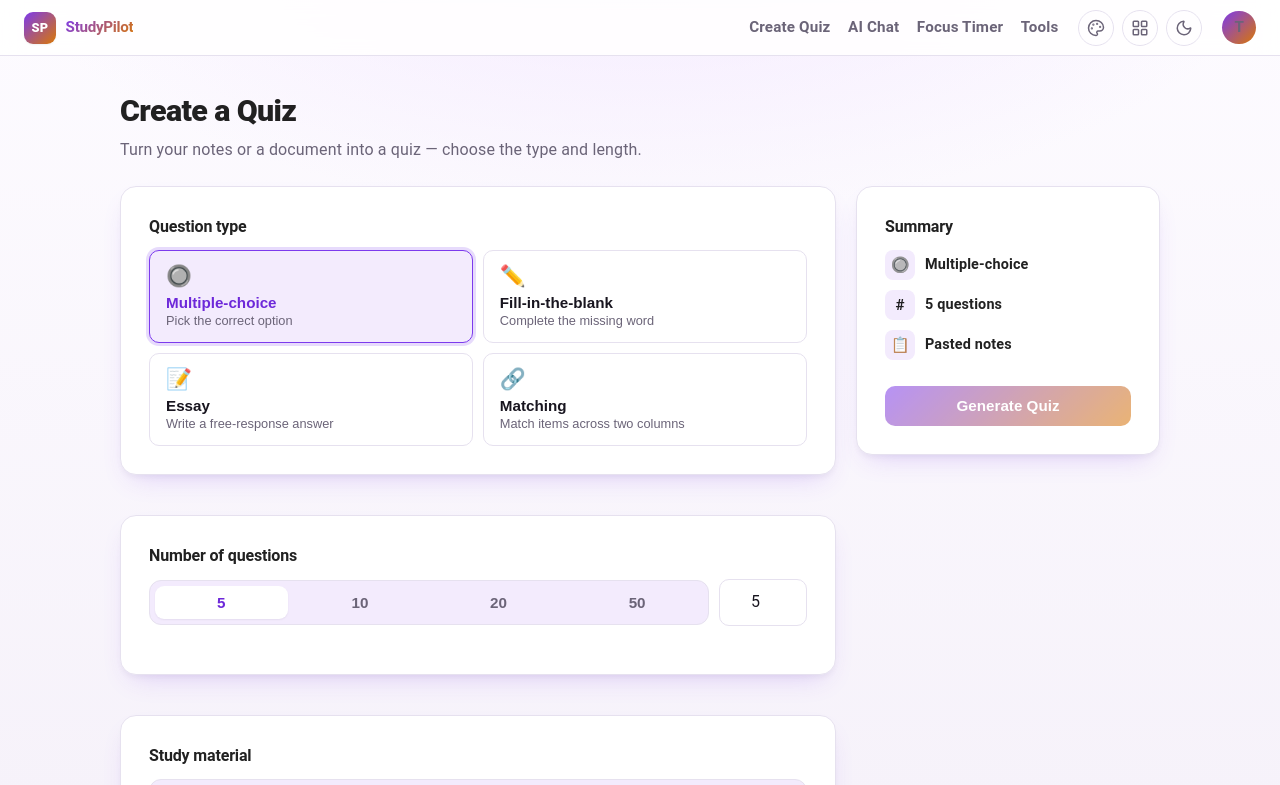
Scenario: core flow: create -> take -> results › generates a quiz, takes it, and shows score + per-question breakdown
Create page: choose the Multiple-choice question type, paste notes, generate.
Click the tab "Multiple-choice" at (221, 302), box [149,250,473,343]
(page scrolled)
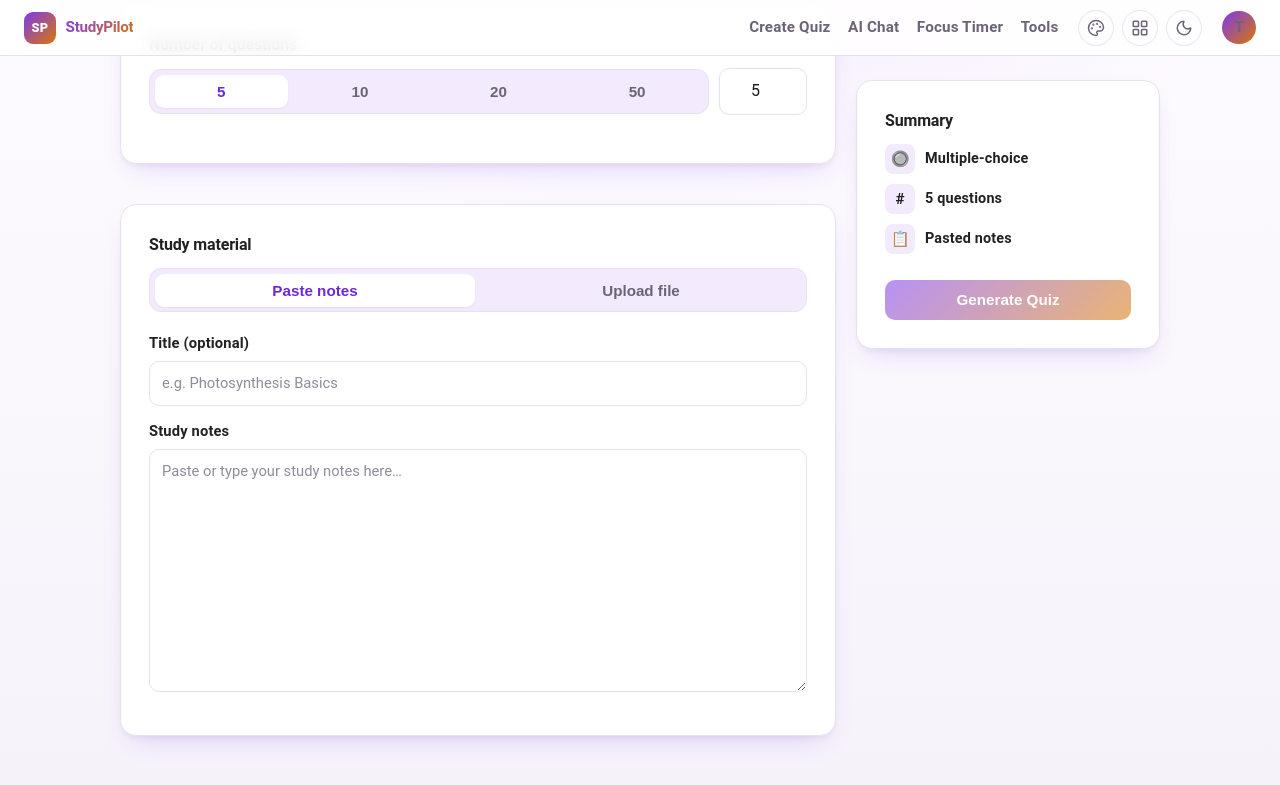
Type "Photosynthesis converts light energy..." into the text box labelled "Study notes" at (478, 570), box [149,449,807,692]
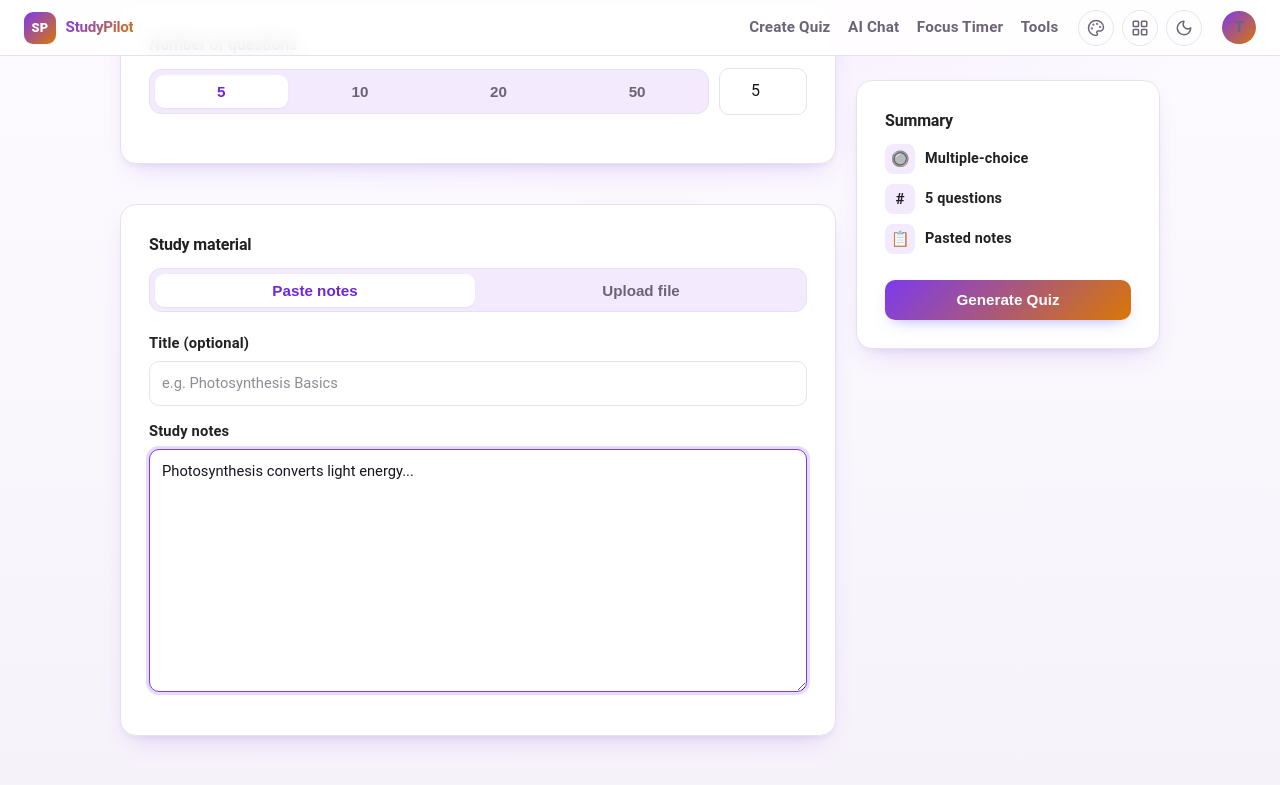
Click the button "Generate Quiz" at (1008, 300), box [885,280,1131,320]
(page scrolled)
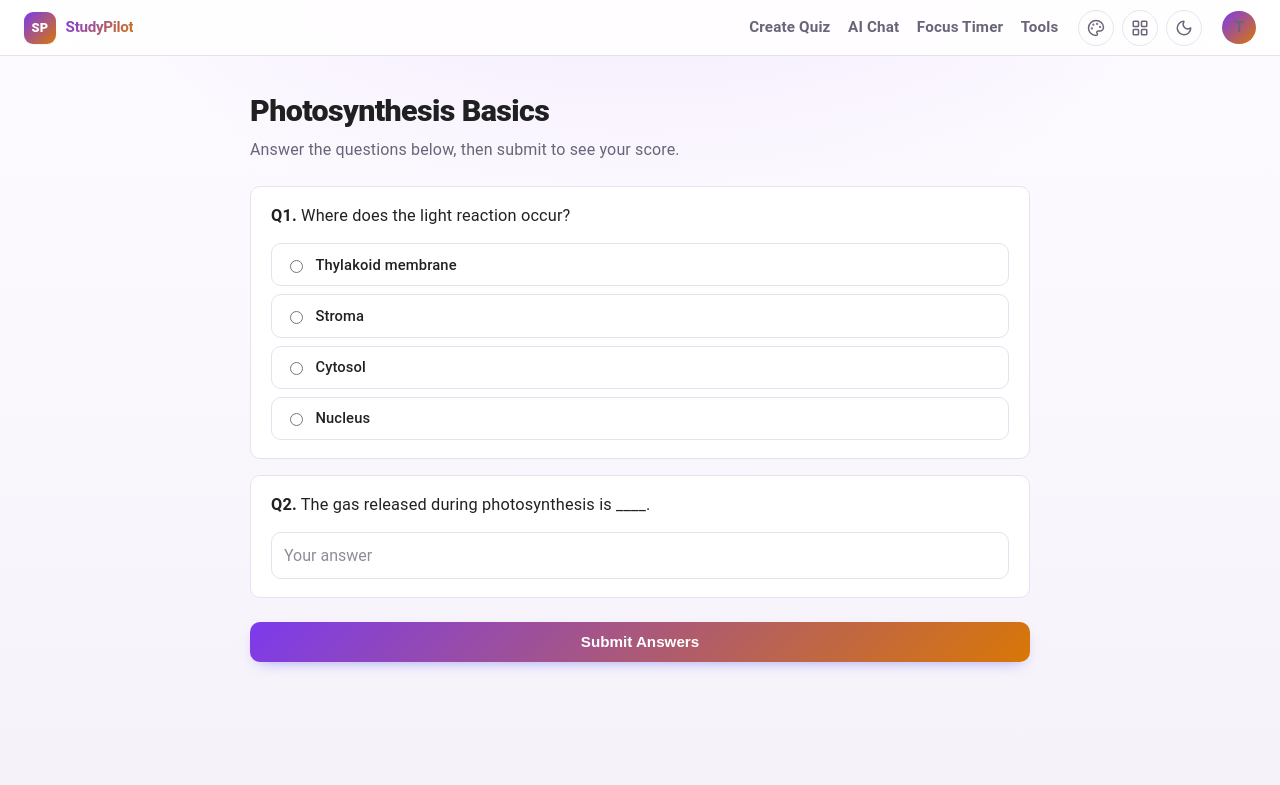
Check: the text "Q1. Where does the light reaction occur?" is shown, box [271,206,570,225]
Check: the text "Q2. The gas released during photosynthesis is ____." is shown, box [271,495,650,514]
Answer the MCQ and the short answer.
Click the radio button labelled "Thylakoid membrane" at (296, 266), box [290,260,303,273]
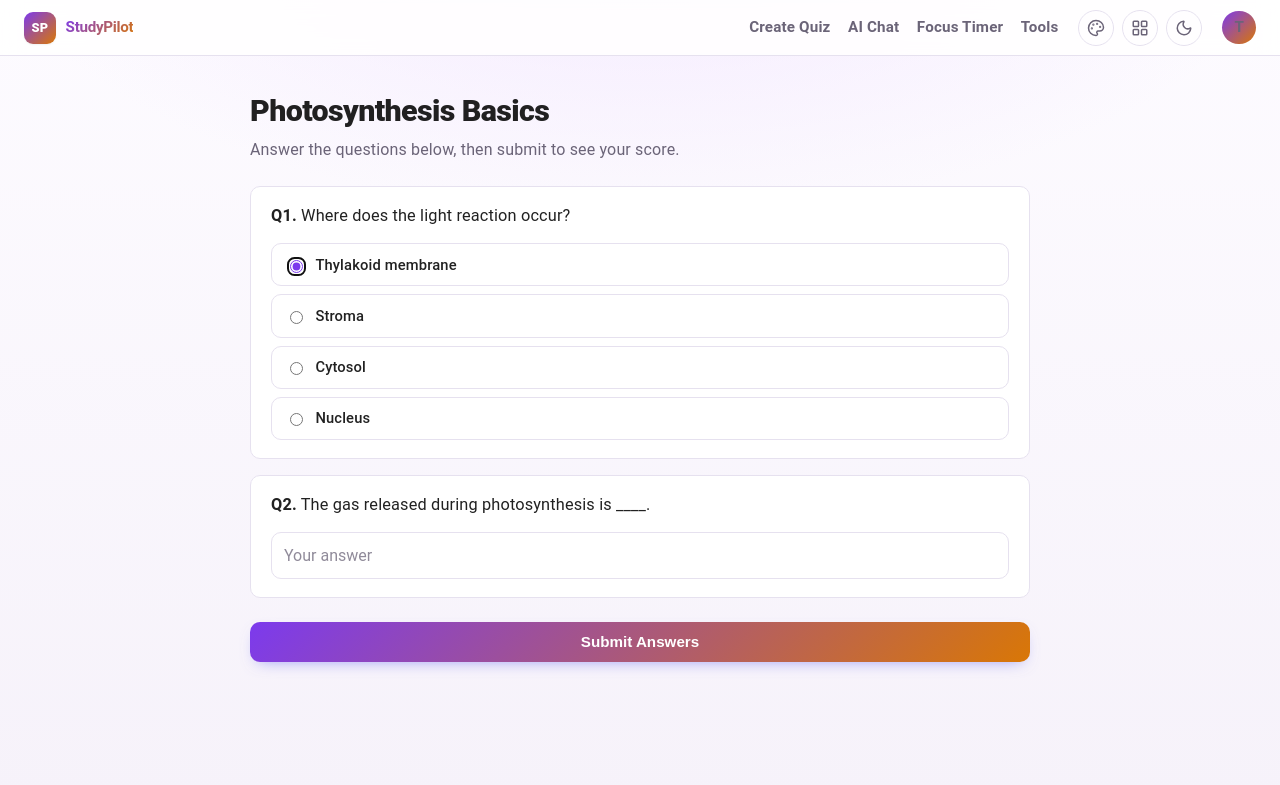
Type "it gives off O2" into the field named "Answer for question 2" at (640, 556), box [271,532,1009,579]
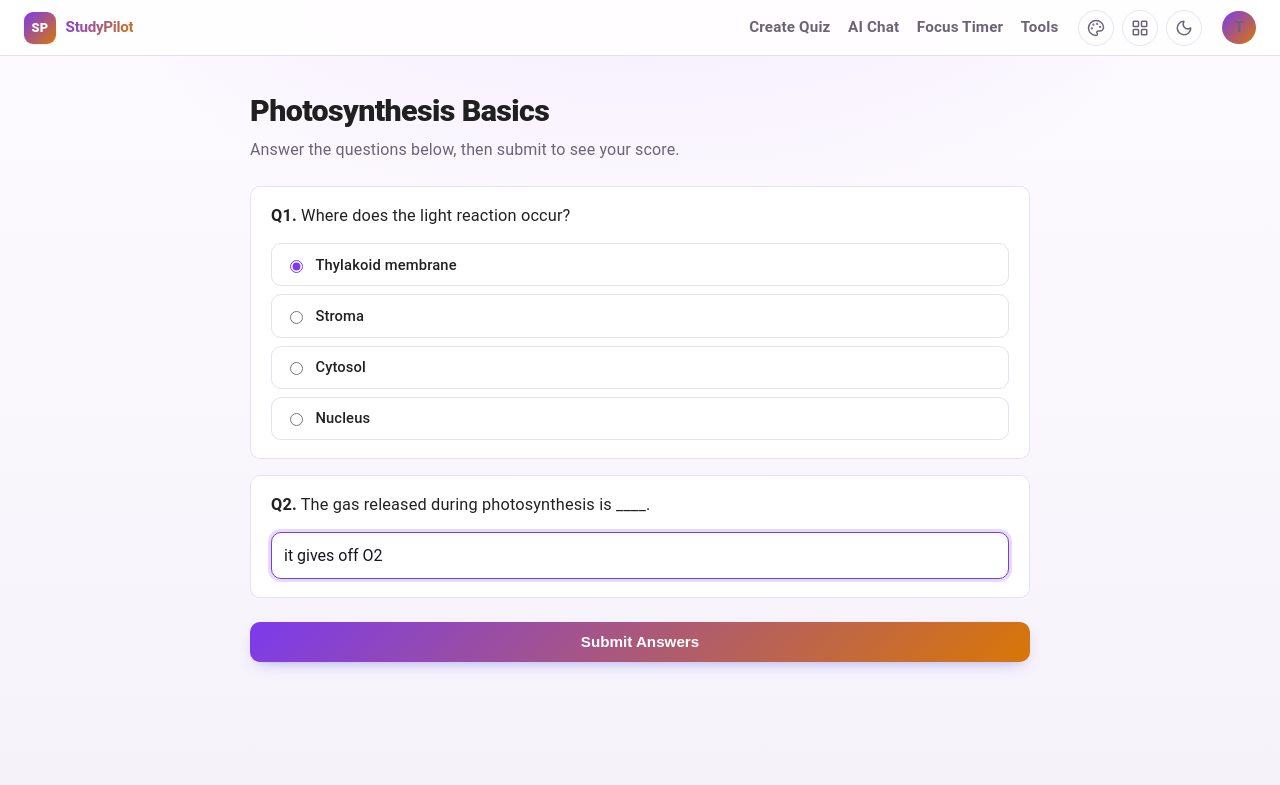
Click the button "Submit Answers" at (640, 642), box [250,622,1030,662]
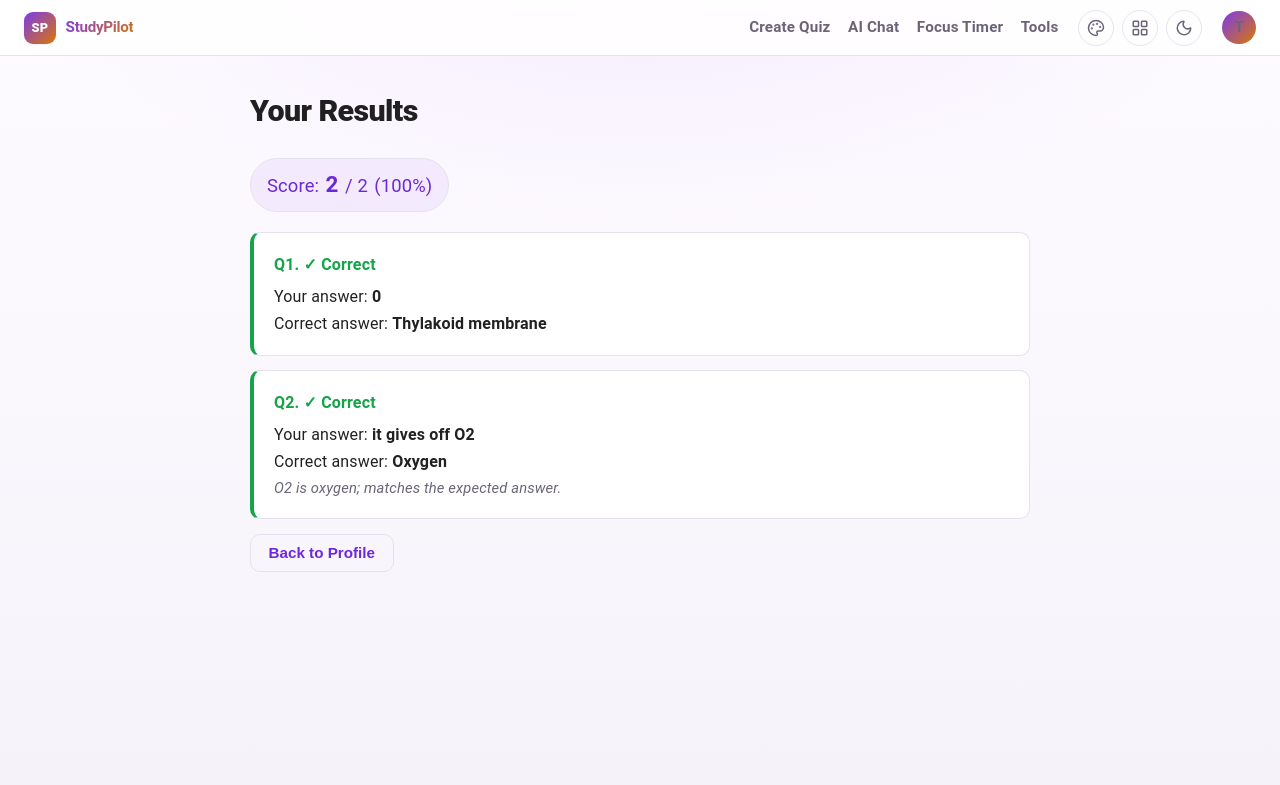
Check: the heading "Your Results" is shown, box [250,93,418,128]
Check: the text "Score: 2 / 2 (100%)" is shown, box [250,158,449,212]
Check: the text "100%" is shown, box [374,172,432,200]
